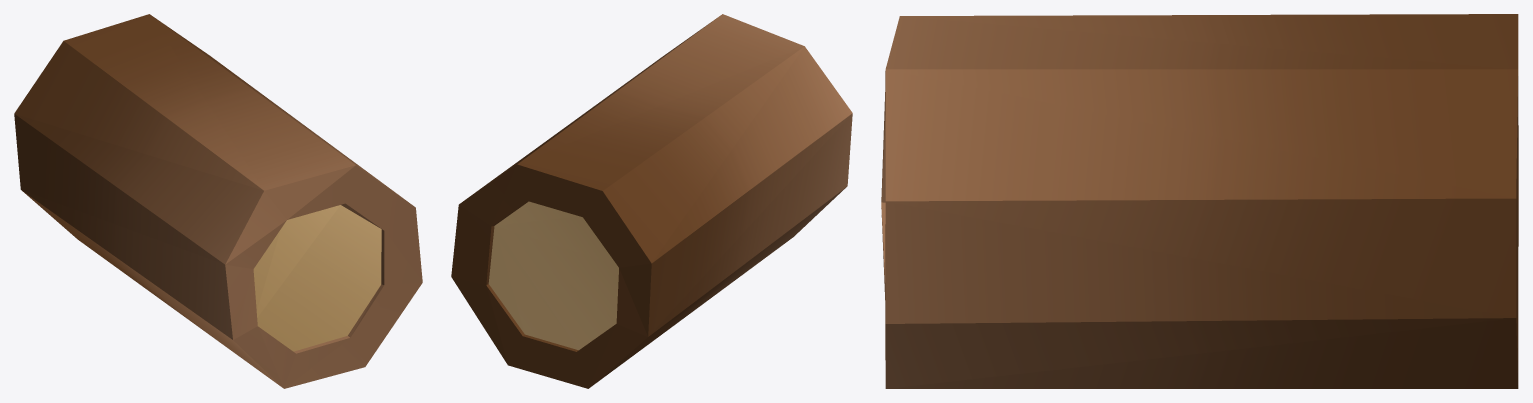
Rendered from Log_Short.fbx.
3 views of the same model, side by side, from view 1: azimuth 30°, elevation 25°; view 2: azimuth 150°, elevation 25°; view 3: azimuth 270°, elevation 25° (orthographic). The views are drawn at different scales.
Parts seen in each view (by area): view 1: Log_Short; view 2: Log_Short; view 3: Log_Short.
Boxes of the visible parts, <box> form: Log_Short: <box>14,14,422,388</box>; Log_Short: <box>451,14,852,388</box>; Log_Short: <box>881,14,1518,388</box>.
Bounding box in the file's own units: 0.365 × 0.3593 × 0.651.
1 material, 1 textured.
